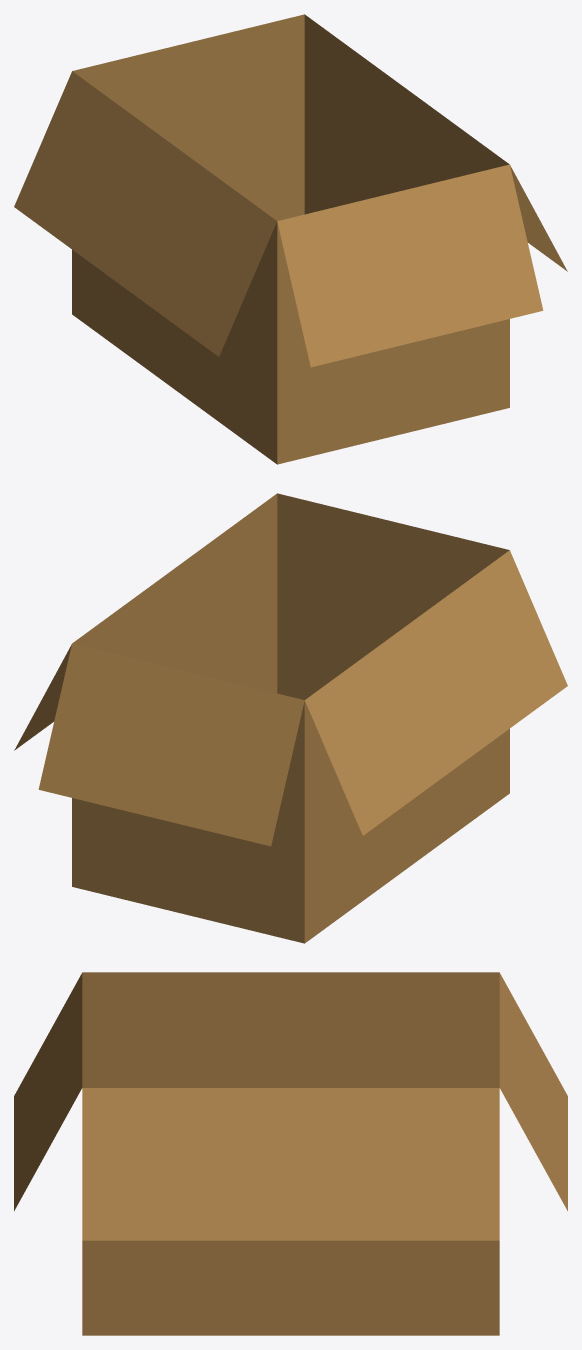
The picture shows the model from 3 angles, top to bottom: view 1: azimuth 30°, elevation 25°; view 2: azimuth 150°, elevation 25°; view 3: azimuth 270°, elevation 25°; orthographic projection.
Parts seen in each view (by area): view 1: BoxOne.001; view 2: BoxOne.001; view 3: BoxOne.001.
Part boxes in pixels (x1,y1,x2,y2): BoxOne.001: (14,14,567,464); BoxOne.001: (14,493,567,943); BoxOne.001: (14,972,567,1335).
Size of the model in its own units: 482 by 322 by 652.
